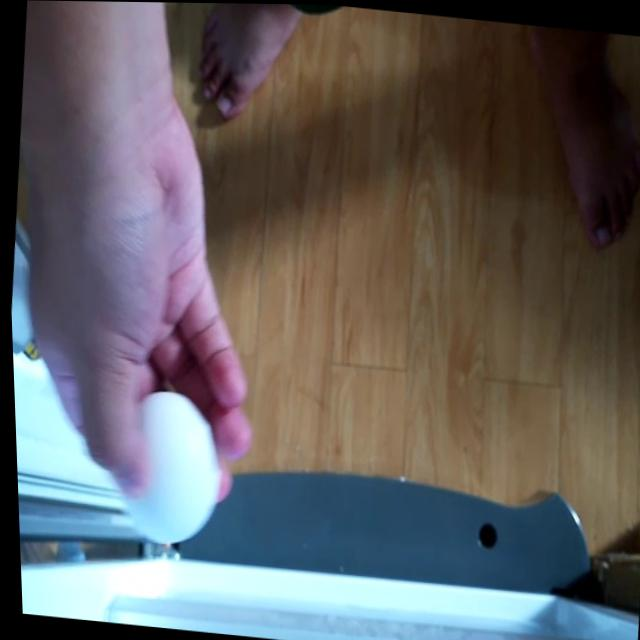egg: (105, 378, 232, 550)
